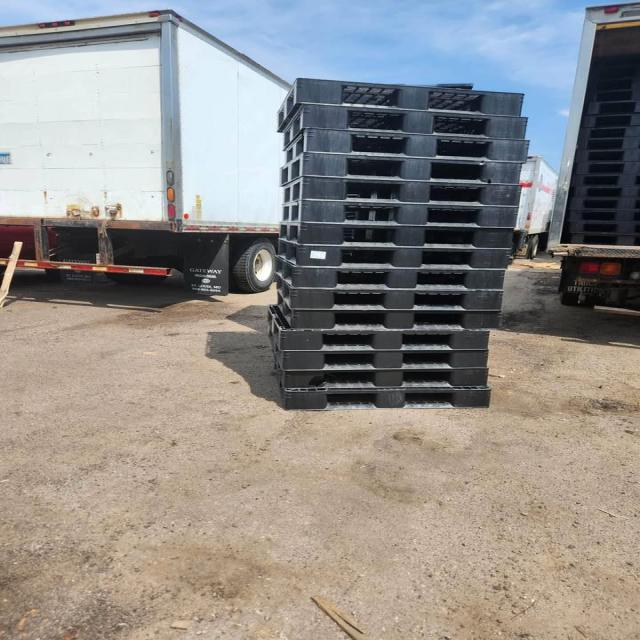non-igps: (292, 75, 527, 118), (298, 123, 531, 166), (297, 100, 531, 142), (296, 149, 524, 191), (298, 172, 526, 210), (276, 376, 496, 414), (286, 282, 508, 317), (295, 197, 524, 230), (275, 321, 495, 354), (288, 303, 508, 334), (293, 220, 518, 250), (286, 262, 509, 292), (291, 242, 514, 272), (278, 345, 492, 375), (275, 363, 493, 392), (568, 232, 640, 248), (561, 197, 640, 211), (564, 209, 640, 223), (566, 173, 640, 187), (583, 49, 640, 67), (577, 99, 640, 114), (565, 220, 640, 232), (566, 186, 640, 198), (578, 112, 640, 126), (574, 137, 640, 150), (575, 125, 640, 138), (570, 162, 640, 174), (570, 149, 640, 161), (584, 77, 640, 89), (580, 90, 640, 100), (586, 66, 640, 77)
